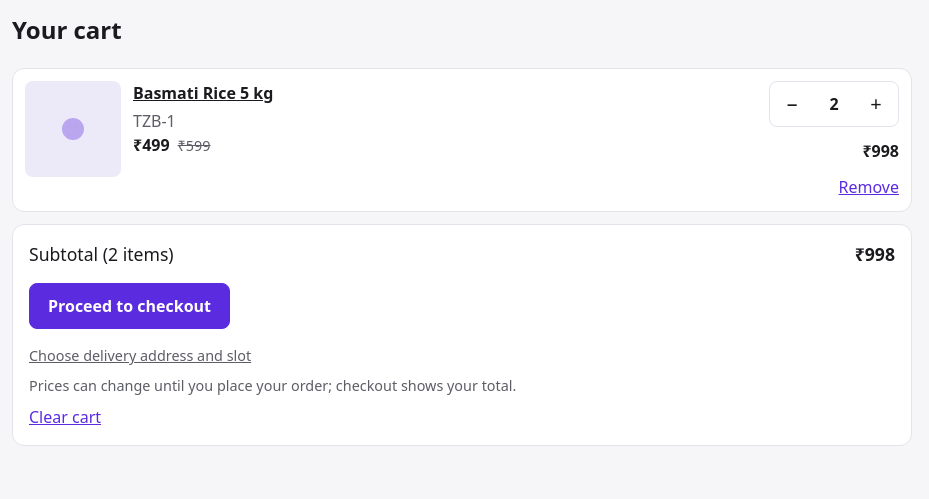
Test: CartView changes › on a conflict replaces the screen with the fresh cart and explains it
Click the button named "Increase quantity of Basmati Rice 5 kg". click: (876, 104)
box: top-left (854, 82), bottom-right (898, 126)
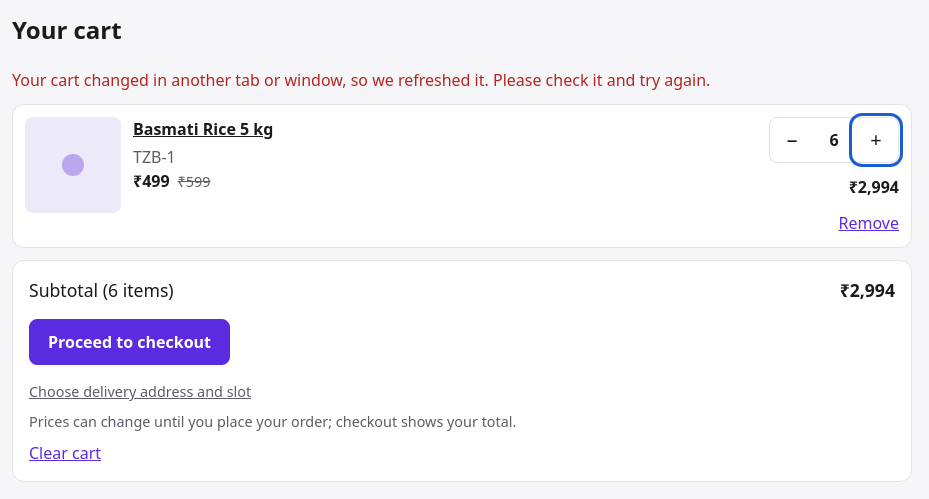
Now the message shows "Your cart changed in another tab or window", box top-left (12, 69), bottom-right (710, 91)
Now the text with test id "cart-subtotal" reads "₹2,994", box top-left (840, 278), bottom-right (895, 302)
